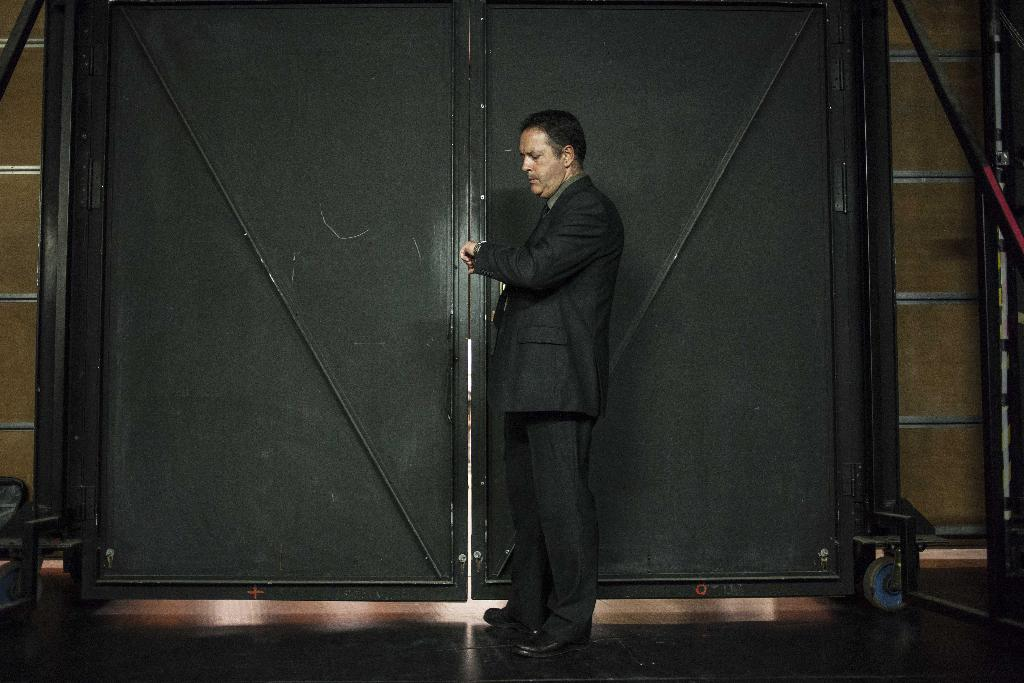Door: (449, 1, 872, 593)
